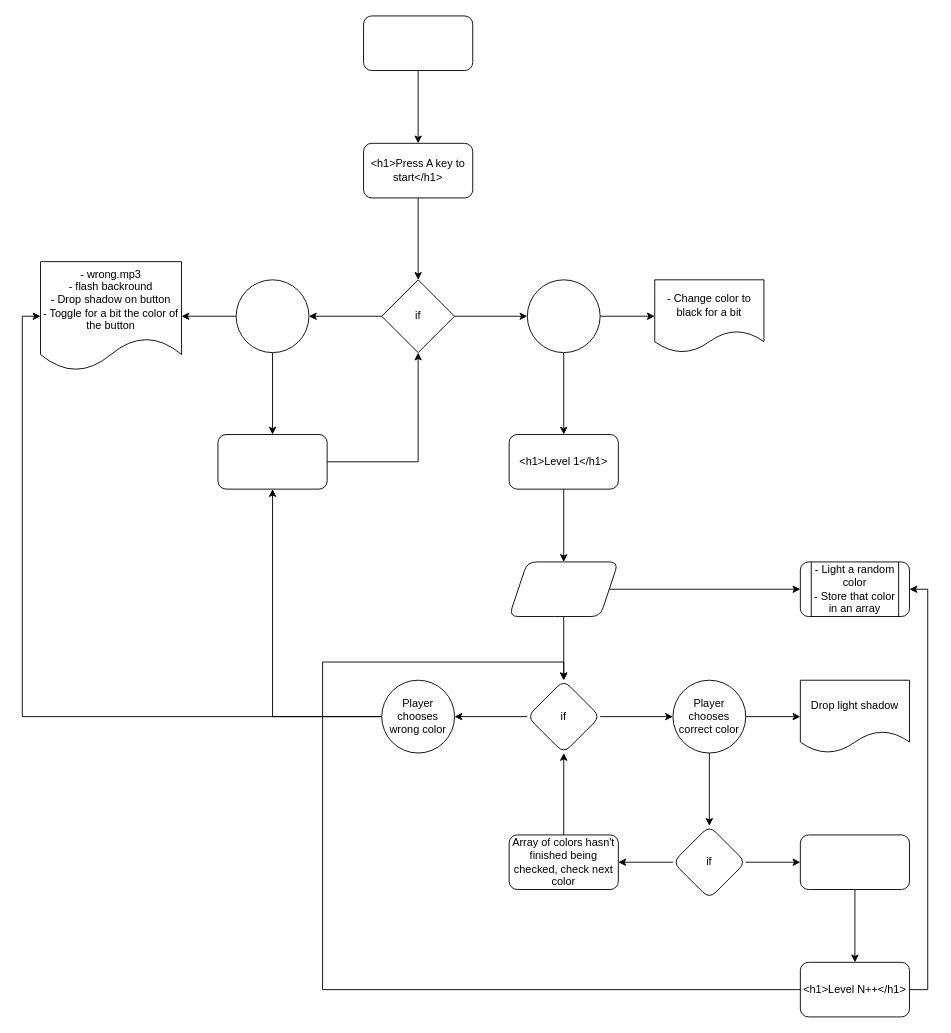
Image size: 951x1033. Some labels were removed from this diagram. The shapes that lost their labels are listed below. From the top down, each one's centre as x and y in pixels, then its label:
[418,43]: Start
[272,316]: Player presses a color
[563,316]: Player presses a key
[272,461]: <h1>Game Over, Press Any Key to Restart</h1>
[563,589]: Color Sequence launch
[854,862]: Sequence check complete!
